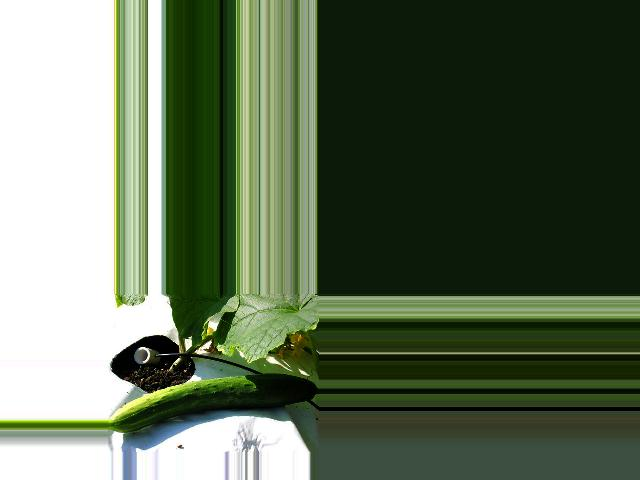cucumber: (106, 374, 318, 433)
